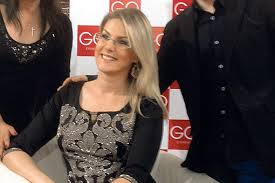glasses: (88, 30, 136, 52)
